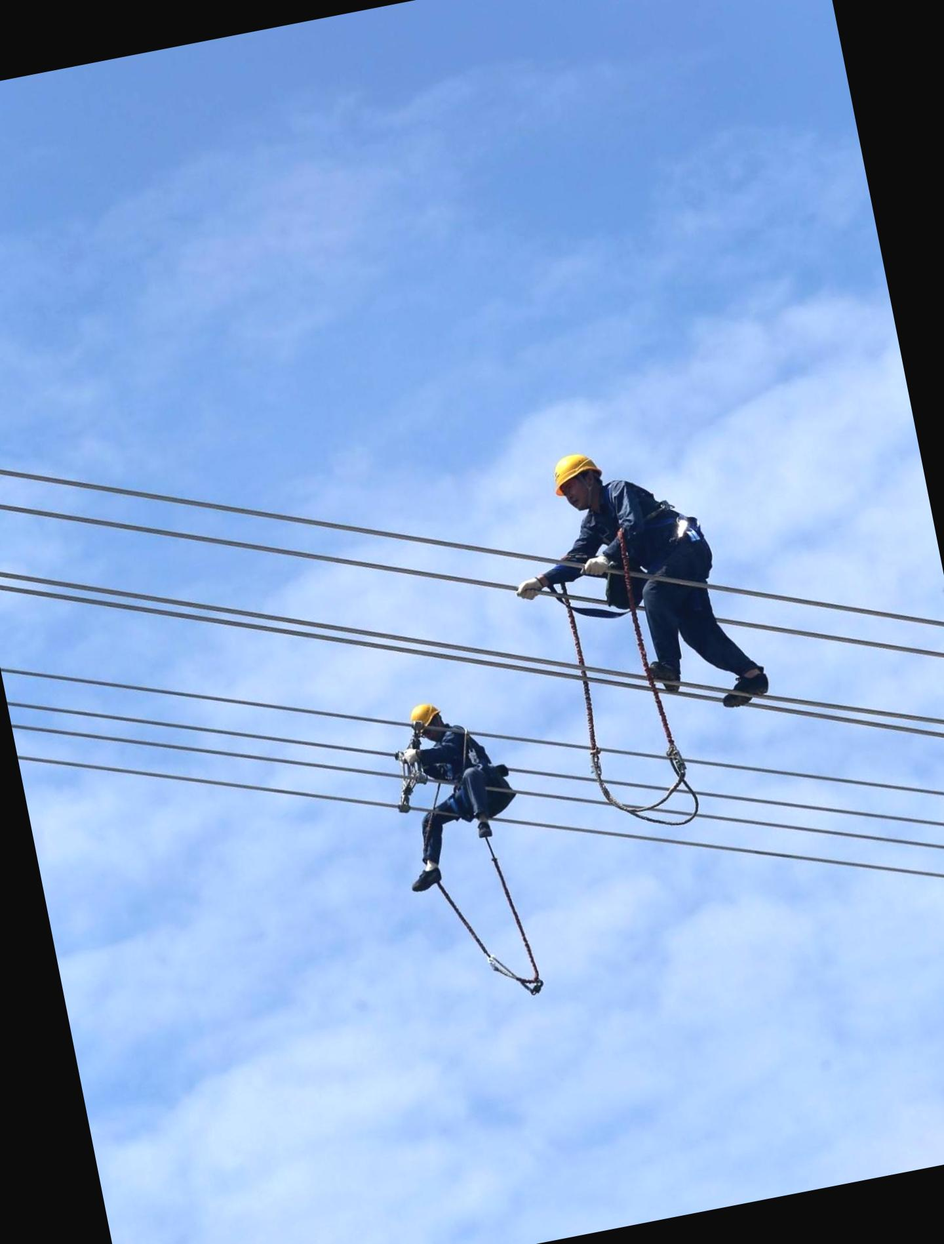helmet: (543, 449, 612, 509)
person: (490, 421, 776, 745), (358, 683, 532, 907)
